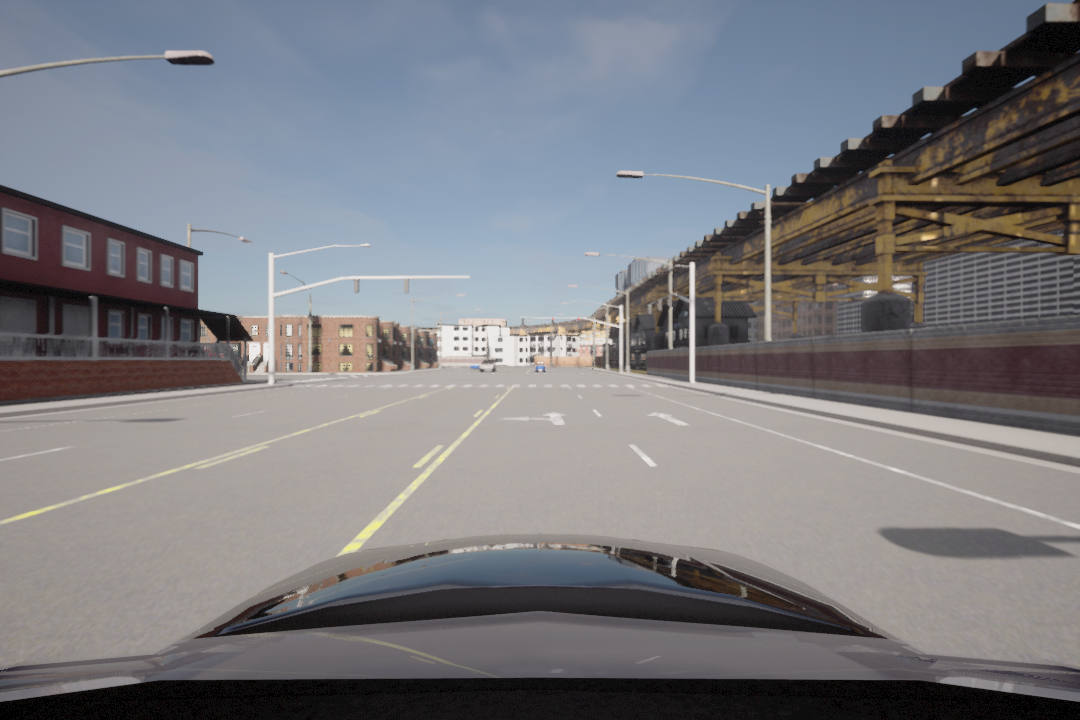RoadSign_forward: (641, 409, 689, 433)
RoadSign_forward_left: (502, 408, 571, 431)
